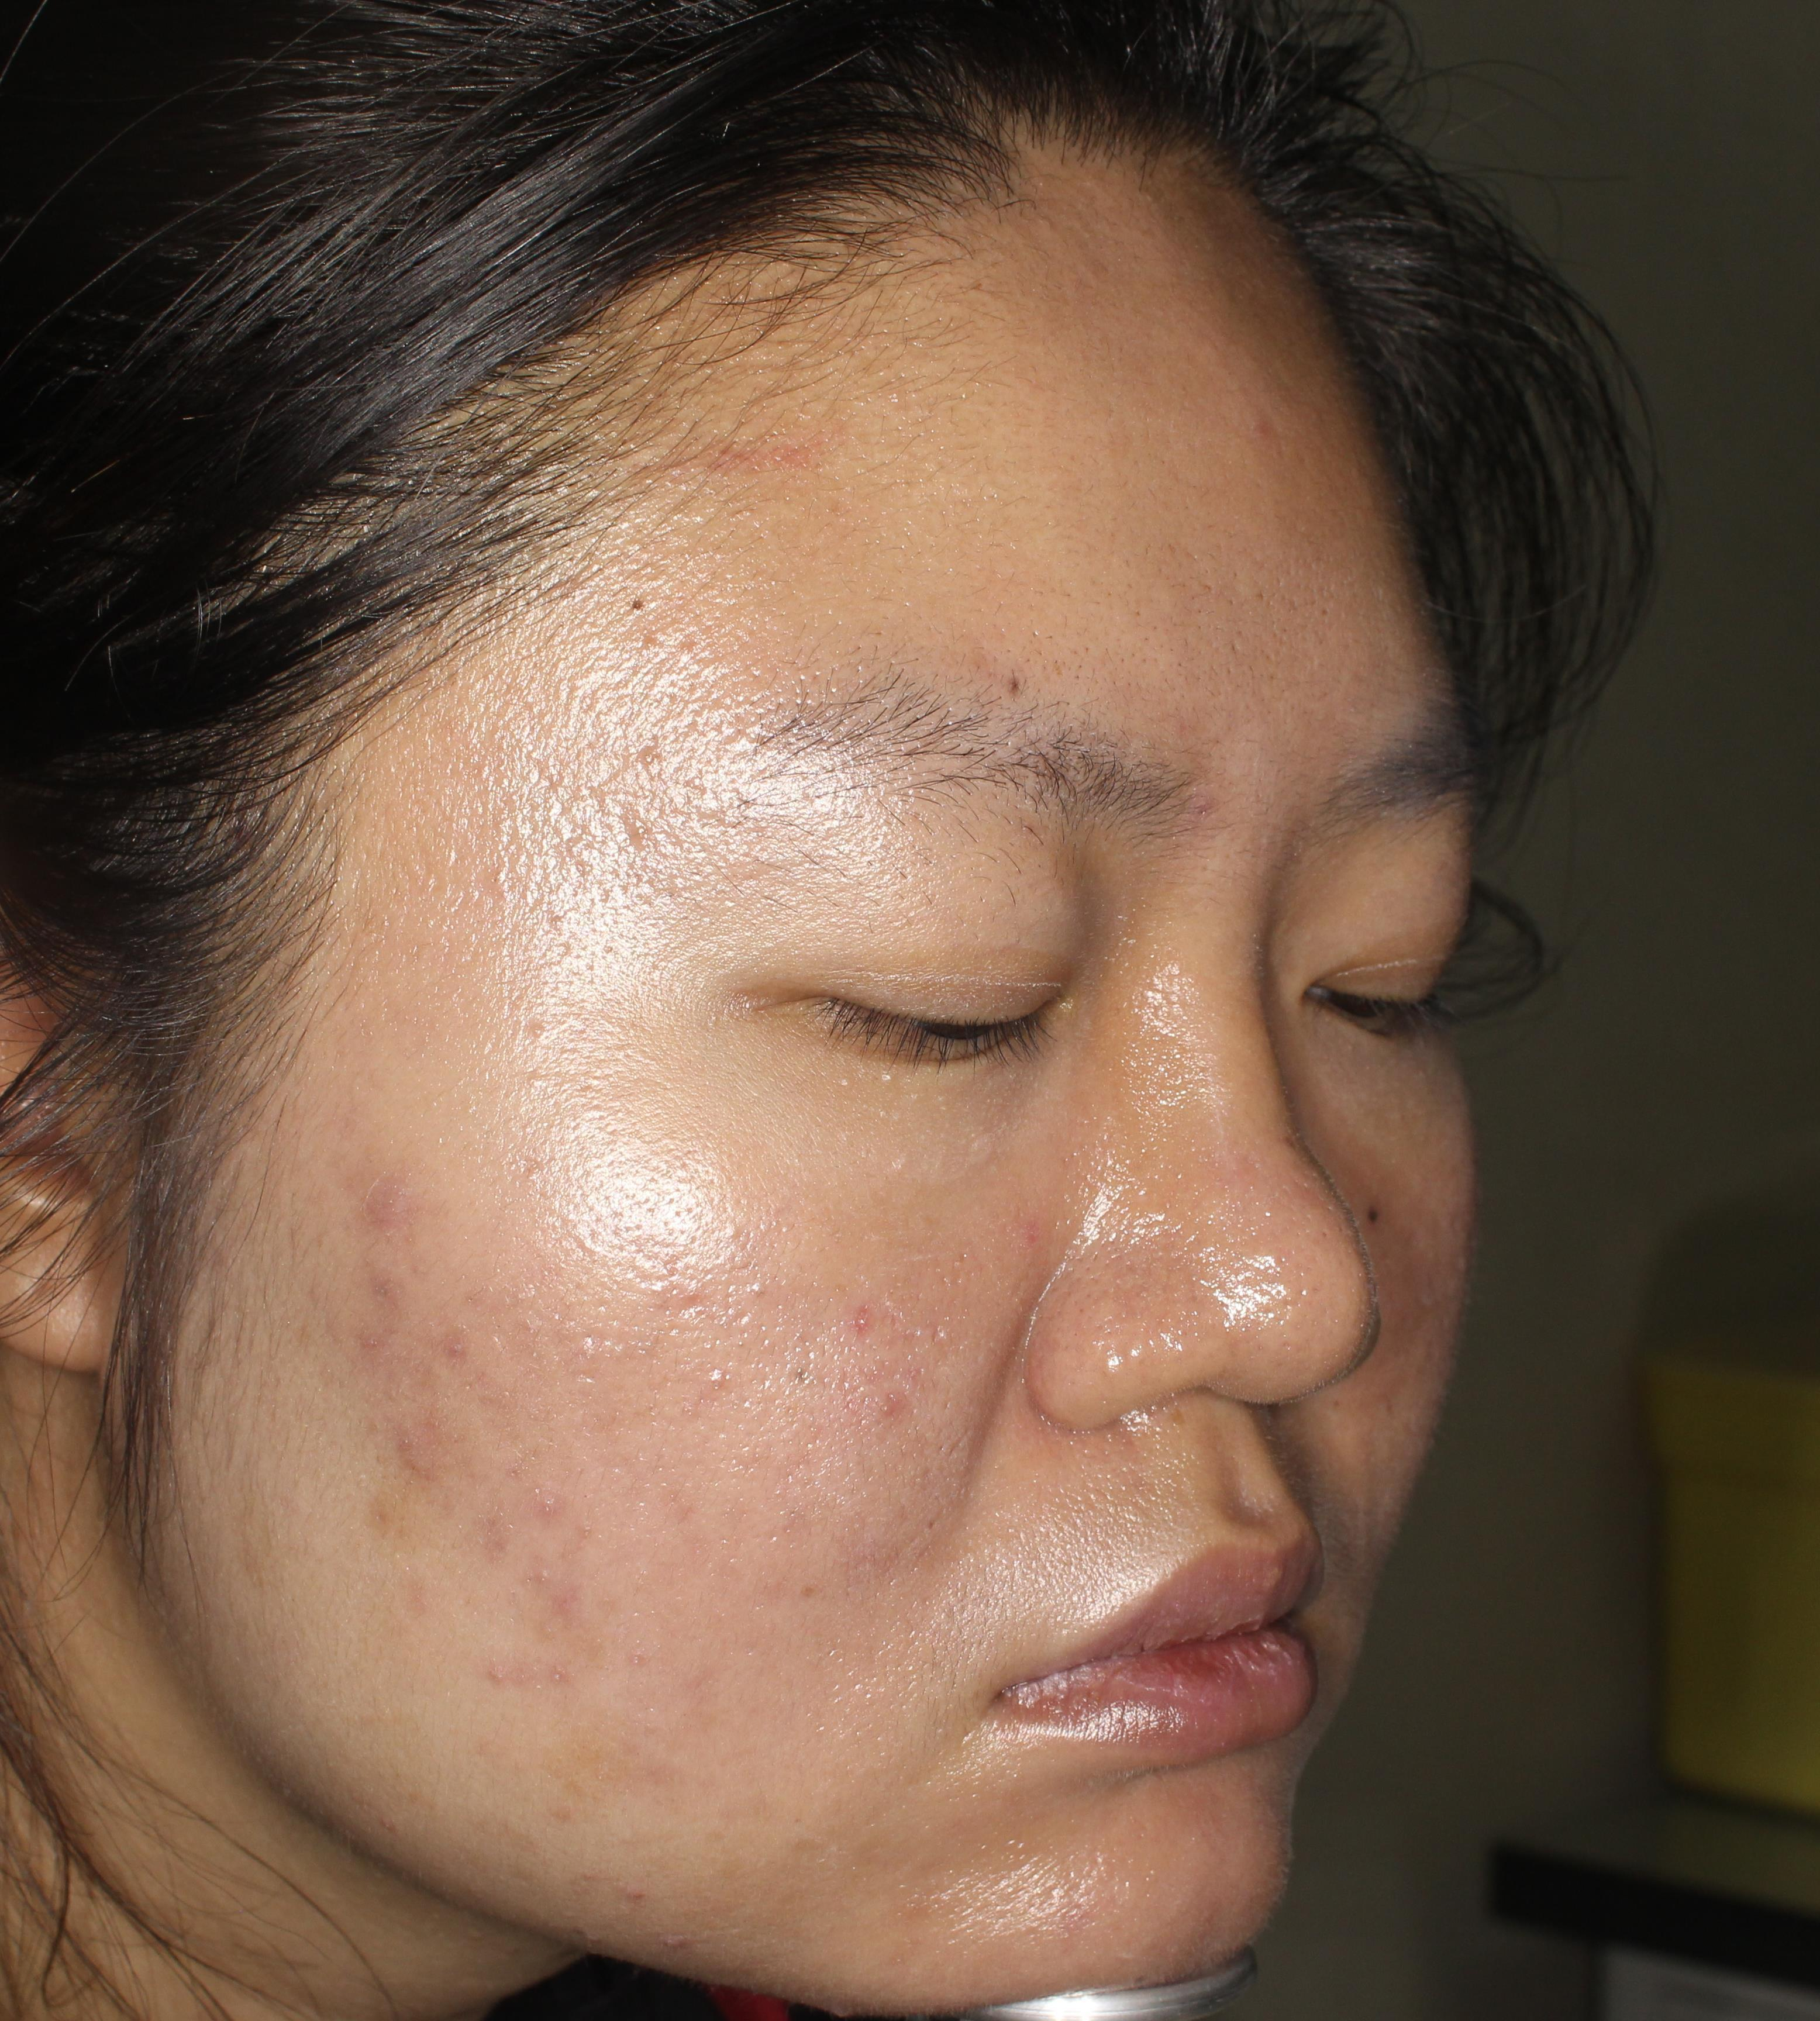fore: (476, 1643, 557, 1728), (378, 1406, 450, 1496), (508, 1557, 597, 1626), (522, 1477, 592, 1554), (351, 1254, 436, 1315), (323, 1320, 404, 1375), (337, 1173, 413, 1226), (459, 1477, 502, 1545), (422, 1320, 490, 1361)
